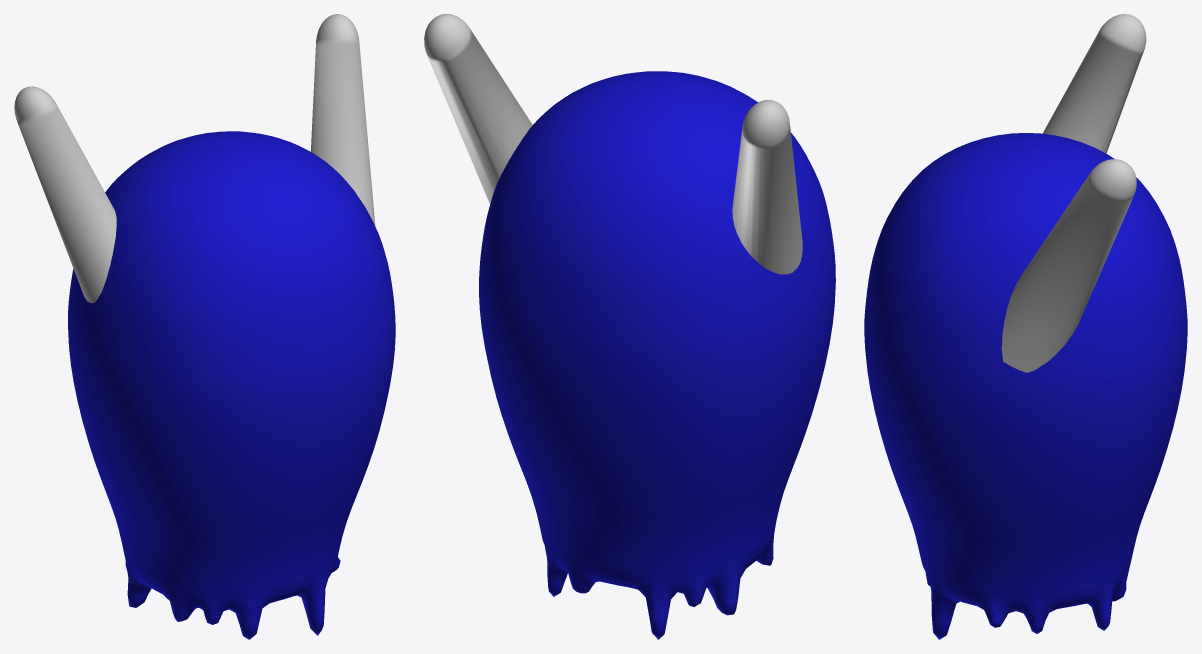
File: beforeThrow_000042.obj
The picture shows the model from 3 angles, left to right: view 1: azimuth 30°, elevation 25°; view 2: azimuth 150°, elevation 25°; view 3: azimuth 270°, elevation 25°; orthographic projection. The views are drawn at different scales.
Parts seen in each view (by area): view 1: Cube, Sphere.001, Sphere; view 2: Cube, Sphere, Sphere.001; view 3: Cube, Sphere, Sphere.001.
Part boxes in pixels (bbox=[...]): Cube: bbox=[68, 131, 395, 639]; Sphere.001: bbox=[14, 86, 116, 303]; Sphere: bbox=[311, 14, 375, 225]; Cube: bbox=[479, 71, 835, 639]; Sphere: bbox=[424, 14, 532, 204]; Sphere.001: bbox=[732, 100, 802, 274]; Cube: bbox=[864, 133, 1187, 639]; Sphere: bbox=[1001, 159, 1136, 372]; Sphere.001: bbox=[1042, 14, 1146, 153].
Bounding box in the file's own units: 0.3414 × 0.5194 × 0.2859.
